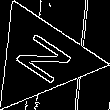N_SE: (6, 27, 76, 90)
